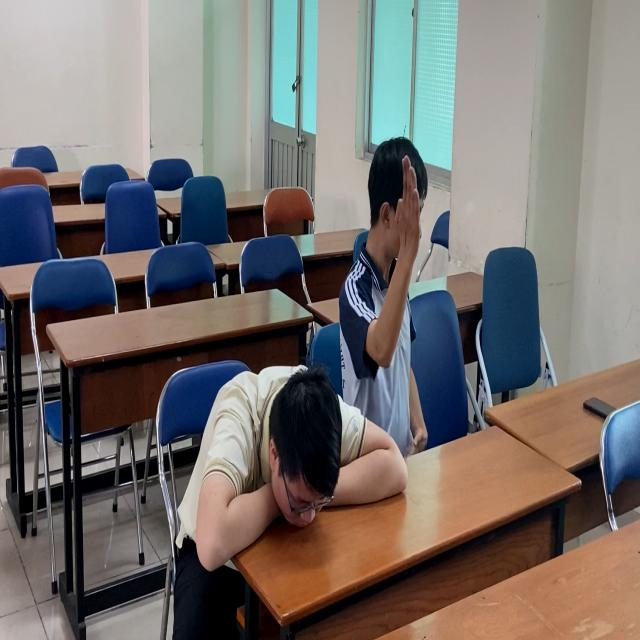raise_hand: (337, 132, 435, 459)
sleep: (183, 355, 393, 560), (446, 123, 448, 124)
